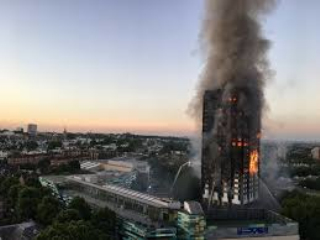fire: (247, 147, 265, 176)
smoke: (186, 3, 277, 146)
